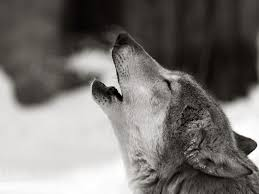Lobo: (69, 24, 237, 177)
